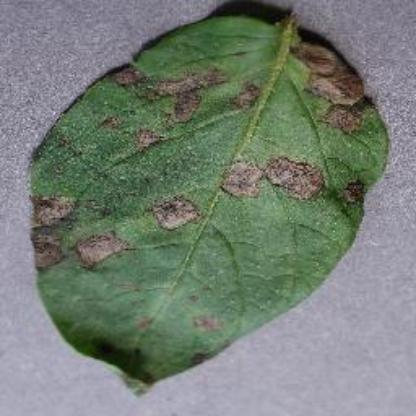Early-Blight: (29, 4, 394, 390)
